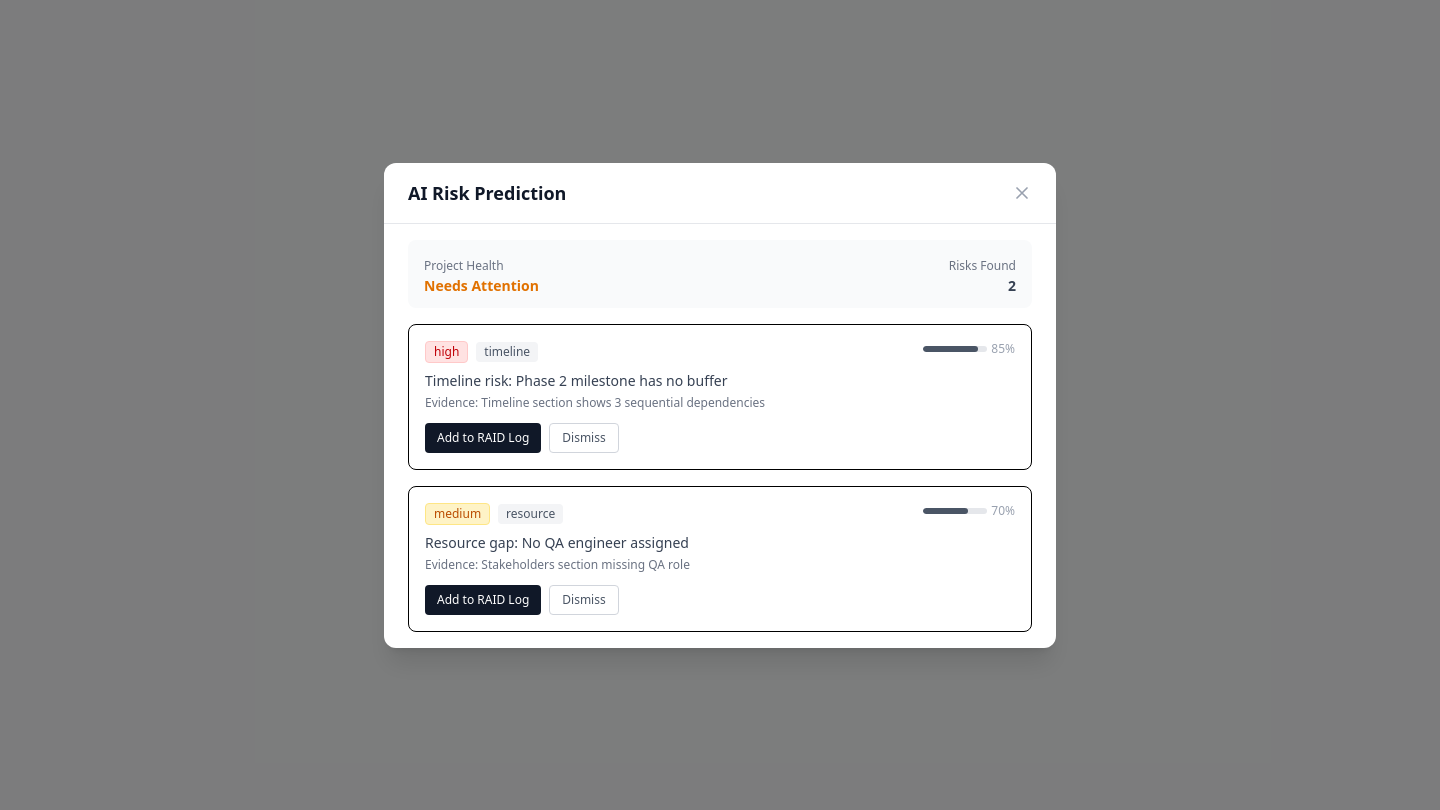
Test: RiskPredictionPanel › disables Add button after adding
Click the button "Add to RAID Log" below "high" at (483, 438), box [425,422,541,452]
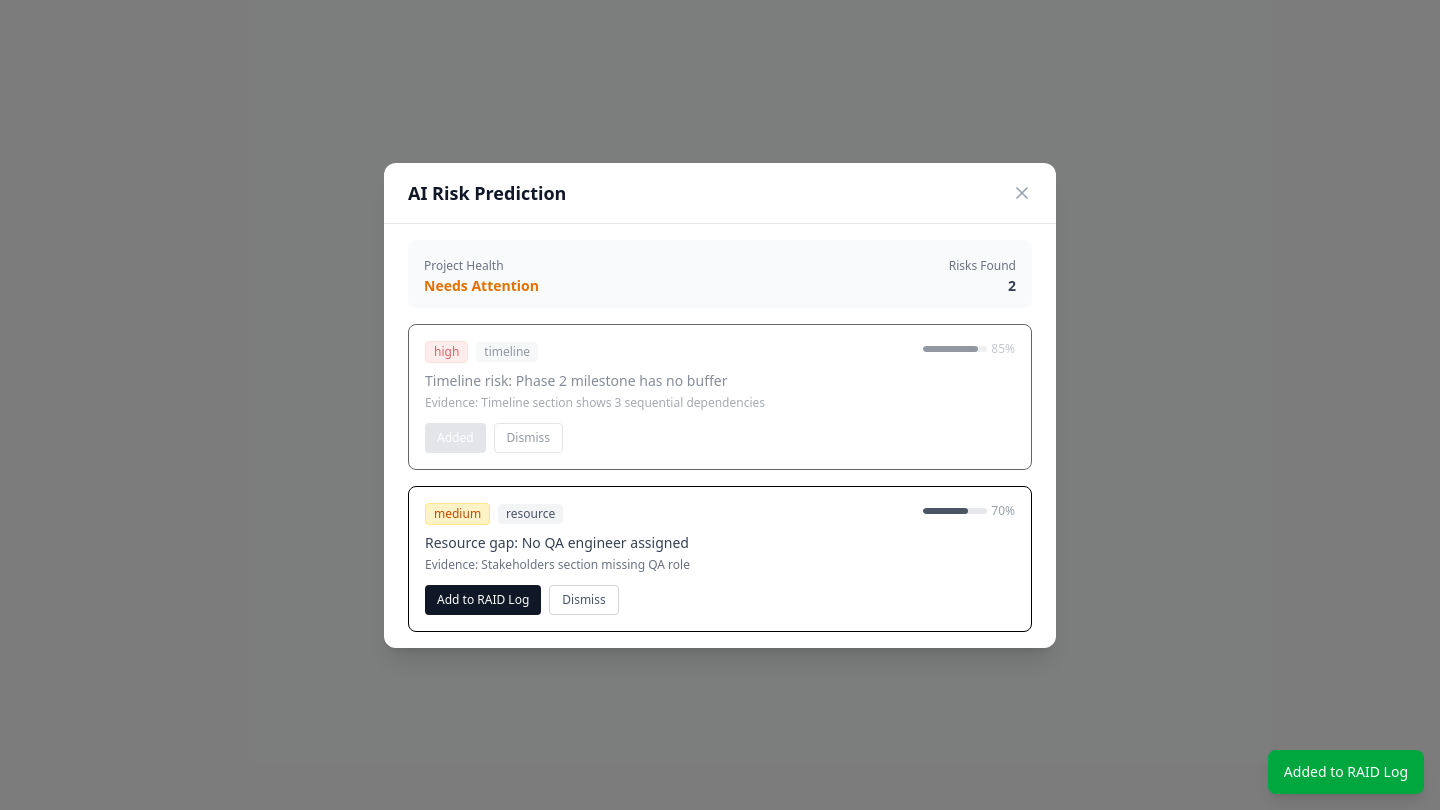
Check: the button "Added" is shown, box [425,422,486,452]
